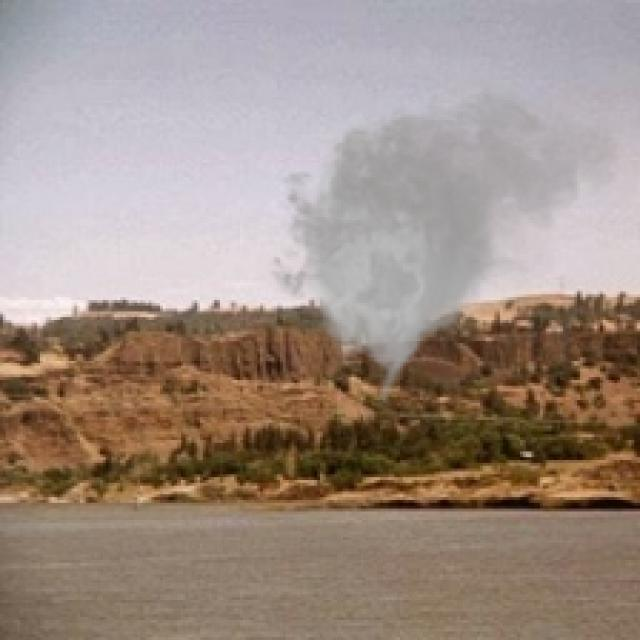smoke: (257, 72, 629, 417)
